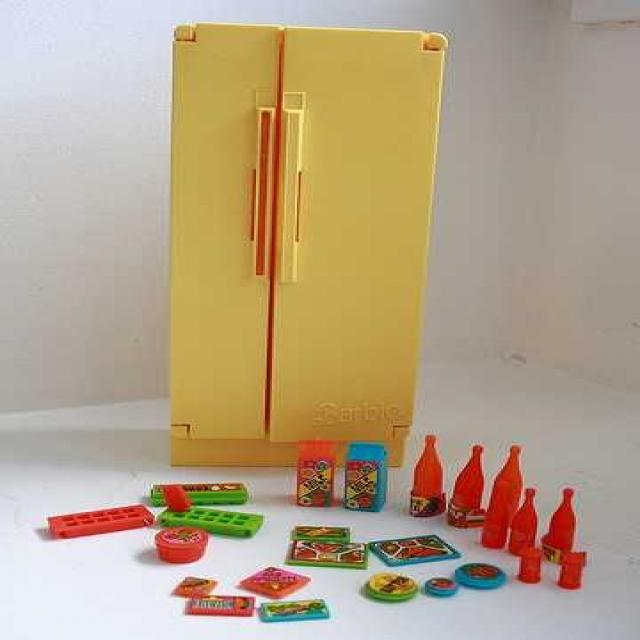refrigerator: (170, 21, 439, 471)
